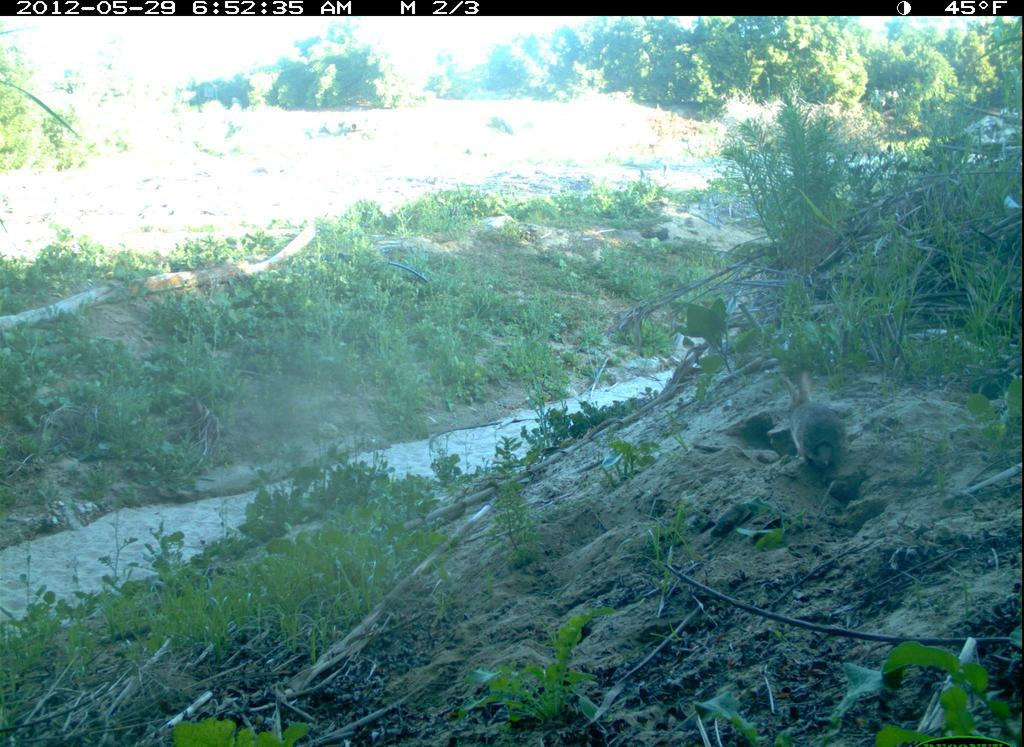rabbit: (775, 363, 852, 487)
